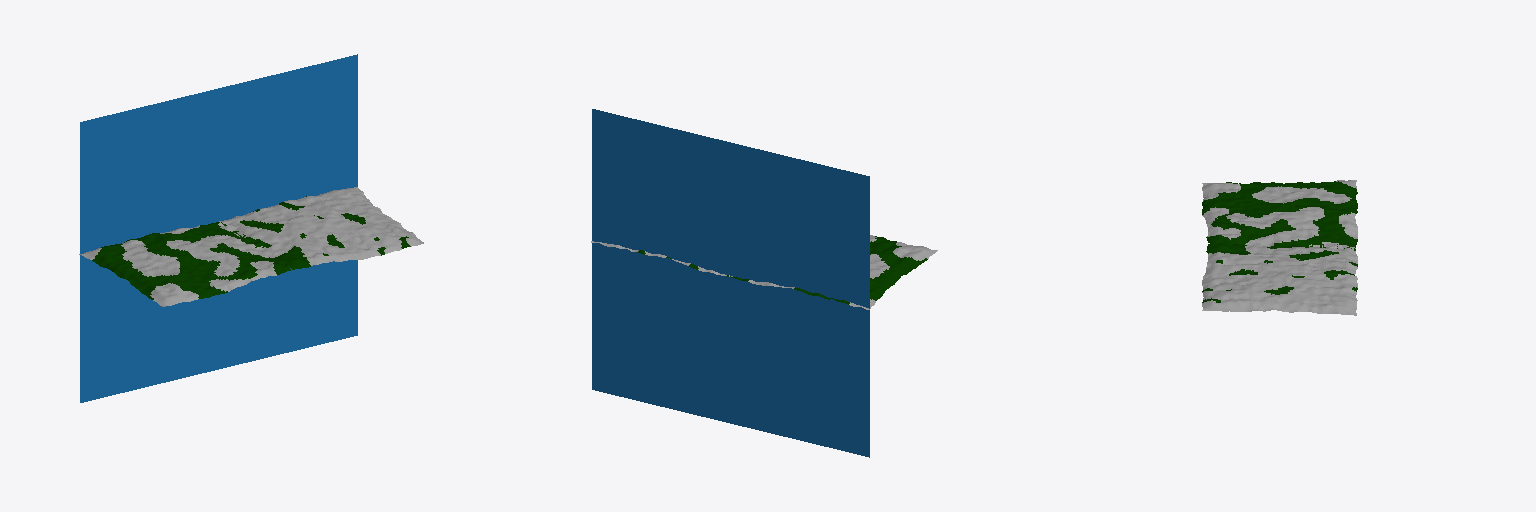
Rendered from backgroud_grass_snow.obj.
The picture shows the model from 3 angles: view 1: azimuth 30°, elevation 25°; view 2: azimuth 150°, elevation 25°; view 3: azimuth 270°, elevation 25°; orthographic projection.
Parts seen in each view (by area): view 1: Sky_Plane.001, Snow_Plane.002, Grass_Plane; view 2: Sky_Plane.001, Grass_Plane, Snow_Plane.002; view 3: Snow_Plane.002, Grass_Plane.
Boxes of the visible parts, x1=… form: Sky_Plane.001: x1=80, y1=54, x2=357, y2=402; Snow_Plane.002: x1=79, y1=187, x2=423, y2=306; Grass_Plane: x1=92, y1=196, x2=410, y2=299; Sky_Plane.001: x1=592, y1=109, x2=869, y2=457; Grass_Plane: x1=638, y1=236, x2=927, y2=304; Snow_Plane.002: x1=591, y1=235, x2=937, y2=309; Snow_Plane.002: x1=1202, y1=180, x2=1357, y2=315; Grass_Plane: x1=1202, y1=181, x2=1357, y2=302.
Bounding box in the file's own units: 44.28 × 42.66 × 21.56.